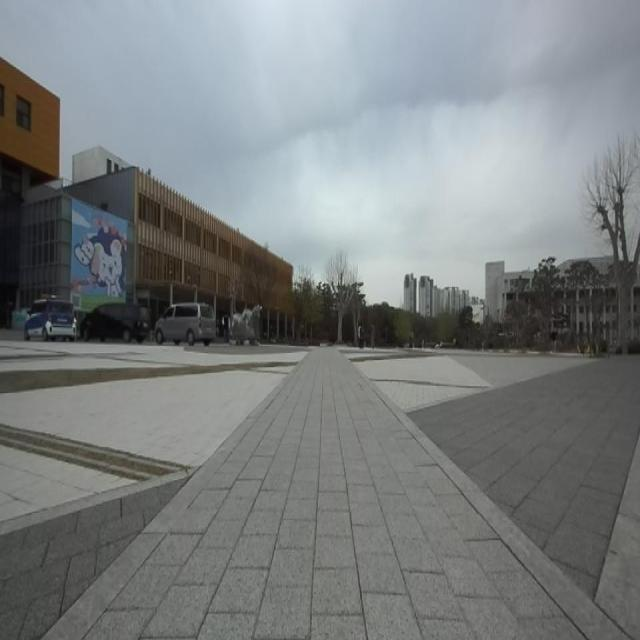sidewalk: (46, 350, 624, 639), (410, 356, 640, 599), (0, 480, 186, 640)
